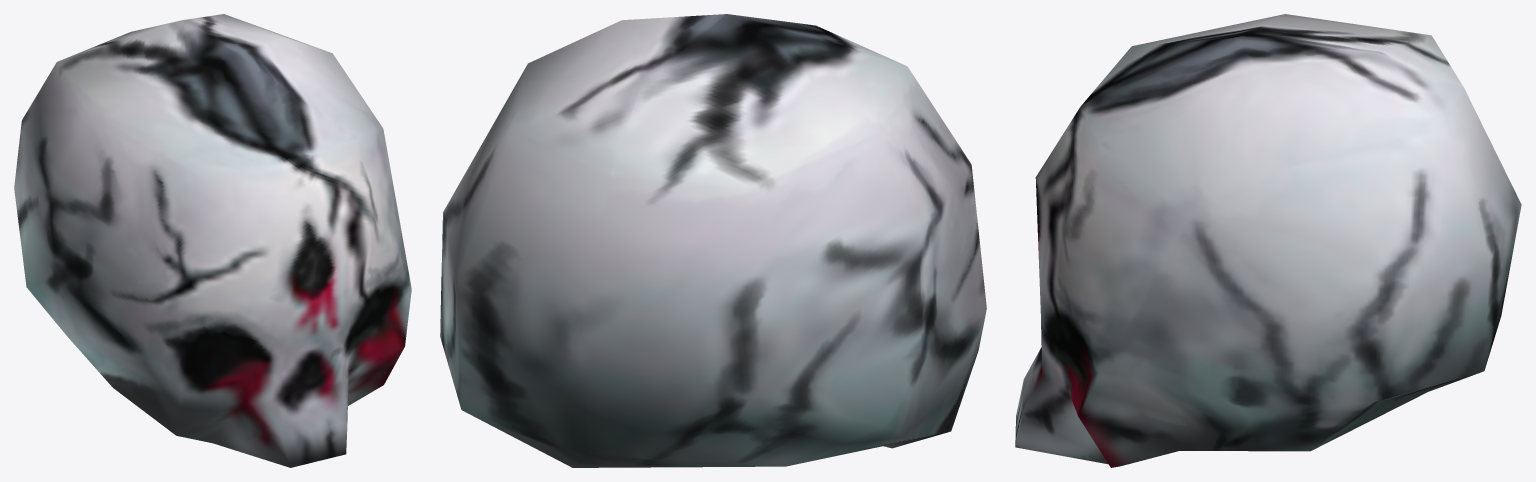
Rendered from PRP_Skeleton.FBX.
3 views of the same model, side by side, from view 1: azimuth 30°, elevation 25°; view 2: azimuth 150°, elevation 25°; view 3: azimuth 270°, elevation 25° (orthographic). The views are drawn at different scales.
Visible parts, largest first — view 1: PRP_Skeleton; view 2: PRP_Skeleton; view 3: PRP_Skeleton.
Part boxes in pixels (x1=…): PRP_Skeleton: x1=14, y1=14, x2=411, y2=467; PRP_Skeleton: x1=440, y1=14, x2=986, y2=467; PRP_Skeleton: x1=1015, y1=14, x2=1521, y2=467.
Bounding box in the file's own units: 47.6 × 48.49 × 55.64.
